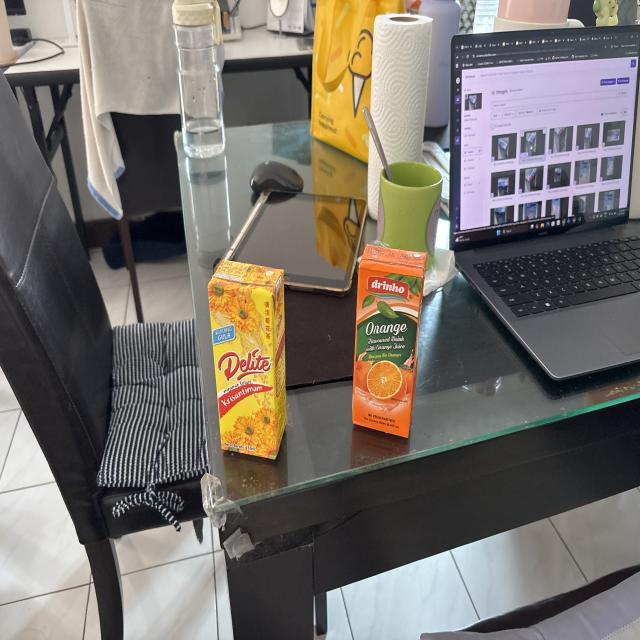drink_carton: (203, 250, 291, 469), (346, 236, 431, 449)
